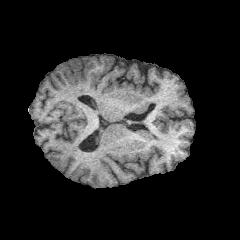glioma: (57, 57, 92, 90)
